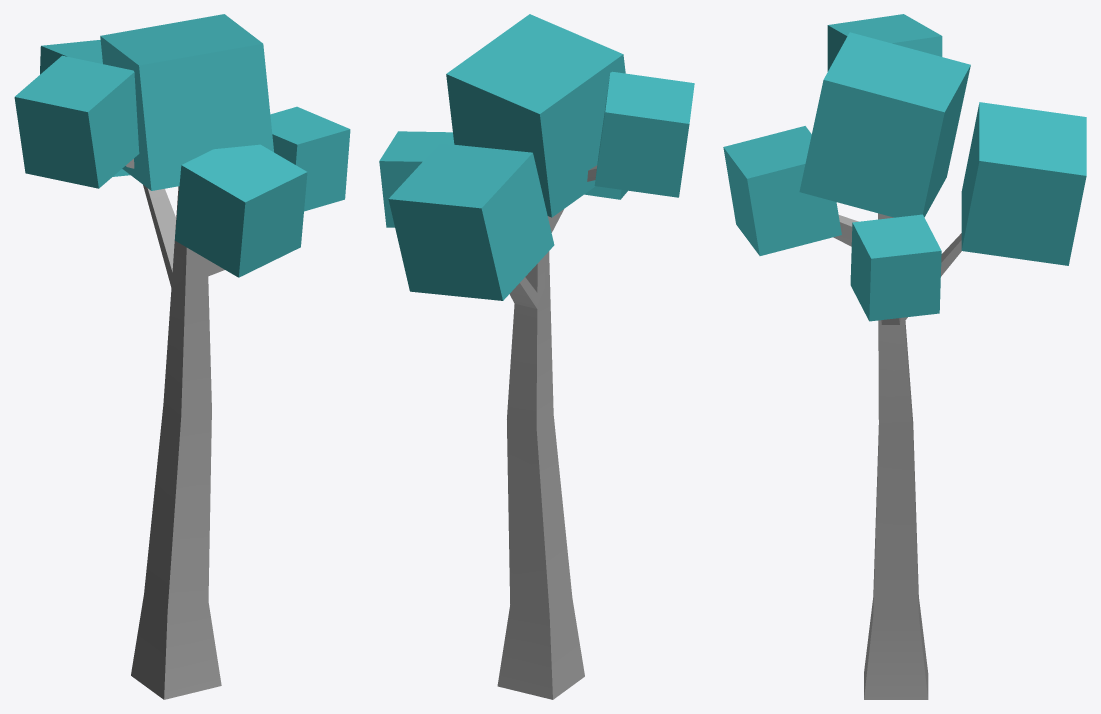
The model's file is Tree.fbx.
3 views of the same model, side by side, from view 1: azimuth 30°, elevation 25°; view 2: azimuth 150°, elevation 25°; view 3: azimuth 270°, elevation 25° (orthographic). The views are drawn at different scales.
Visible parts, largest first — view 1: pCube35, pCube36, pCube37, pCube34, pCube33, pCube38; view 2: pCube35, pCube36, pCube38, pCube34, pCube33; view 3: pCube36, pCube38, pCube35, pCube37, pCube33, pCube34.
Part boxes in pixels (left/top/right/bottom): pCube35: left=125, top=159, right=224, bottom=699; pCube36: left=100, top=14, right=273, bottom=190; pCube37: left=174, top=144, right=307, bottom=277; pCube34: left=14, top=55, right=139, bottom=188; pCube33: left=270, top=106, right=350, bottom=211; pCube38: left=40, top=39, right=130, bottom=176; pCube35: left=497, top=165, right=597, bottom=699; pCube36: left=446, top=14, right=625, bottom=217; pCube38: left=388, top=143, right=554, bottom=300; pCube34: left=594, top=71, right=694, bottom=197; pCube33: left=379, top=131, right=454, bottom=227; pCube36: left=799, top=32, right=970, bottom=217; pCube38: left=961, top=102, right=1086, bottom=265; pCube35: left=833, top=213, right=961, bottom=699; pCube37: left=723, top=126, right=841, bottom=255; pCube33: left=850, top=214, right=941, bottom=321; pCube34: left=827, top=14, right=942, bottom=71.
Bounding box in the file's own units: 0.7053 × 1.38 × 0.7202.
